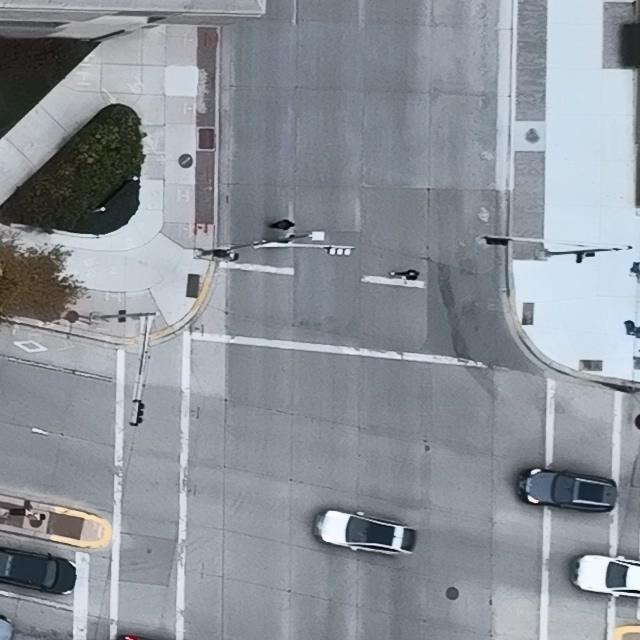car: (313, 509, 418, 556), (516, 467, 618, 514), (0, 547, 77, 596), (570, 554, 640, 597)
